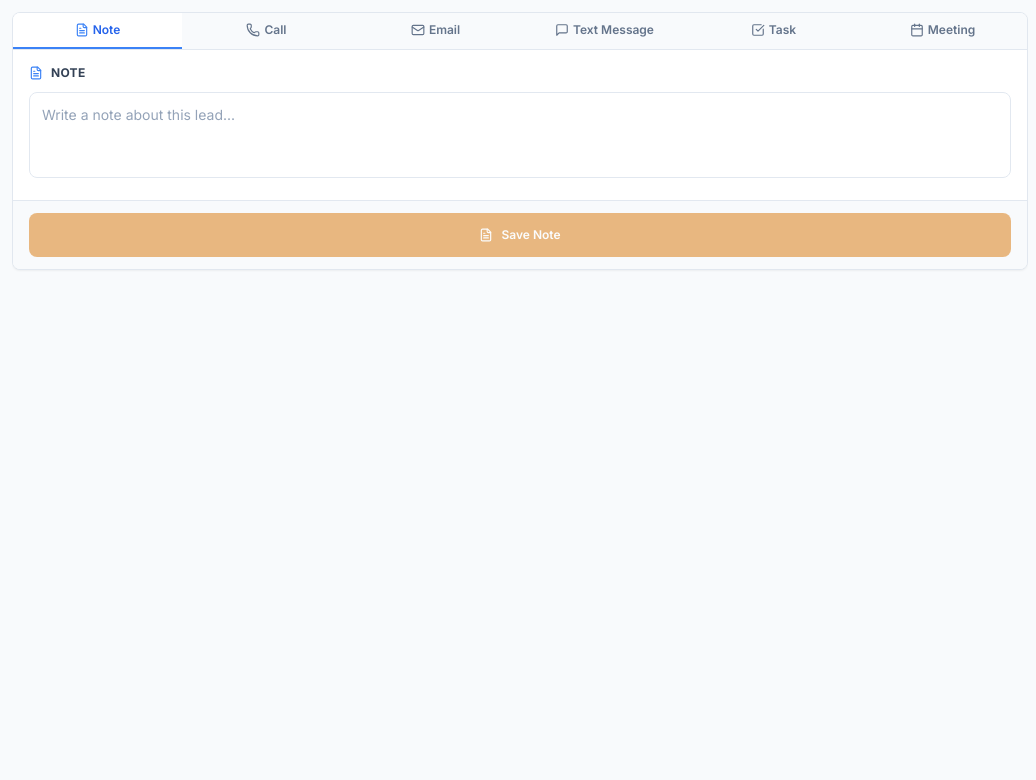
Test: ActivityComposer — Owner Directory resolves from the canonical owners table › an owner missing from the directory shows a truthful, non-blocking state (not "not configured")
The width and height of the screenshot is (1036, 780).
Click the button "Email": (436, 31) left=351, top=13, right=520, bottom=49
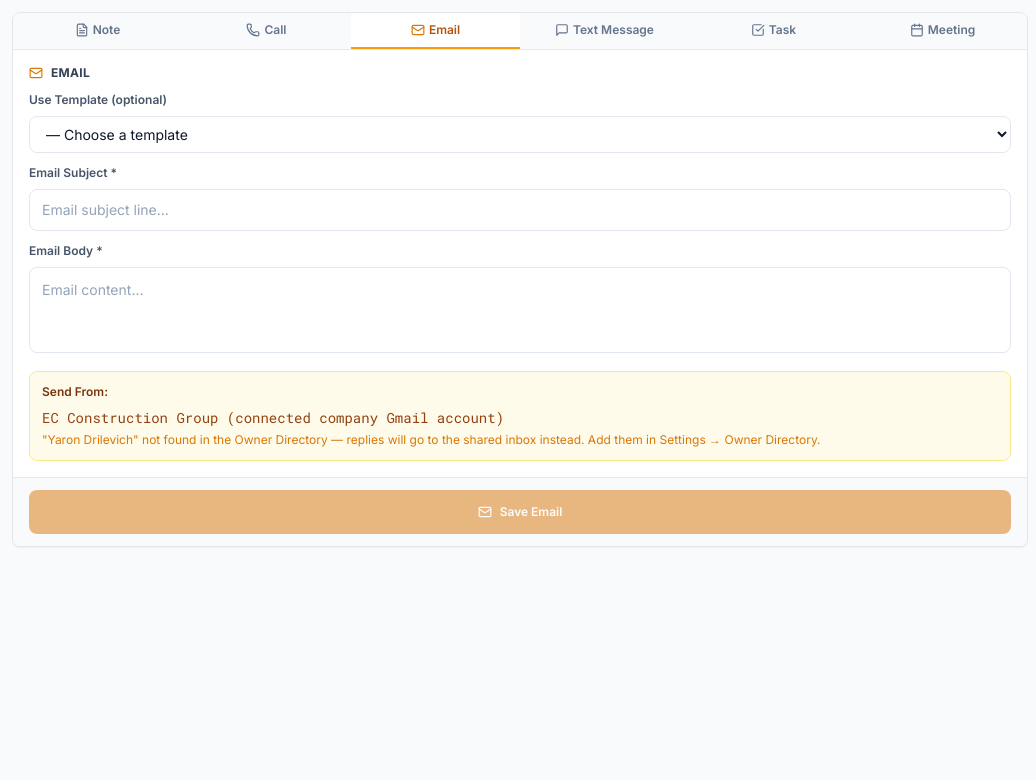
Check: the text "not found in the Owner Directory" is shown, box left=42, top=432, right=821, bottom=447
